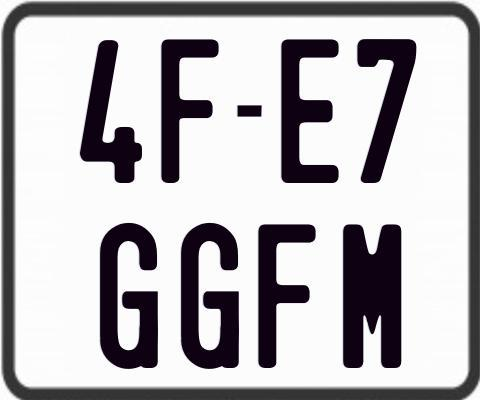4: (78, 38, 140, 182)
7: (354, 36, 416, 185)
E: (278, 39, 338, 189)
F: (255, 224, 315, 368), (158, 36, 217, 182)
G: (97, 223, 161, 375), (180, 220, 240, 370)
M: (341, 224, 405, 368)
